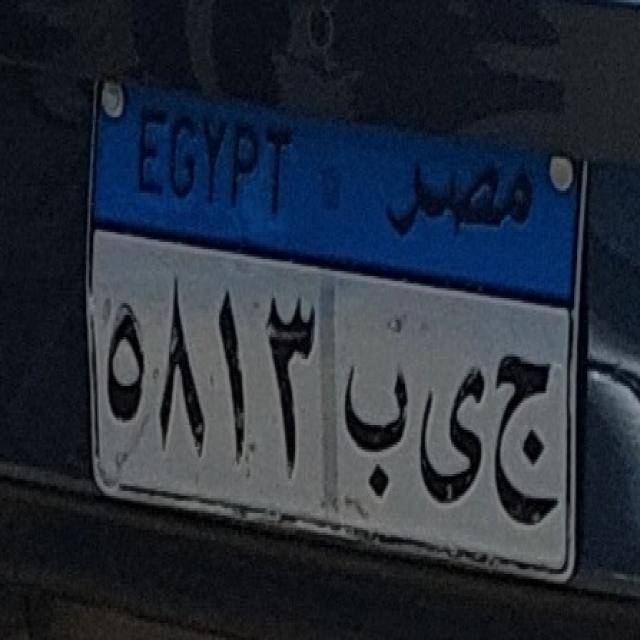1: (205, 281, 258, 478)
3: (258, 286, 327, 487)
5: (99, 296, 152, 436)
8: (152, 272, 214, 476)
Yeeh: (417, 356, 490, 517)
baa: (336, 316, 414, 488)
geem: (486, 342, 564, 548)
